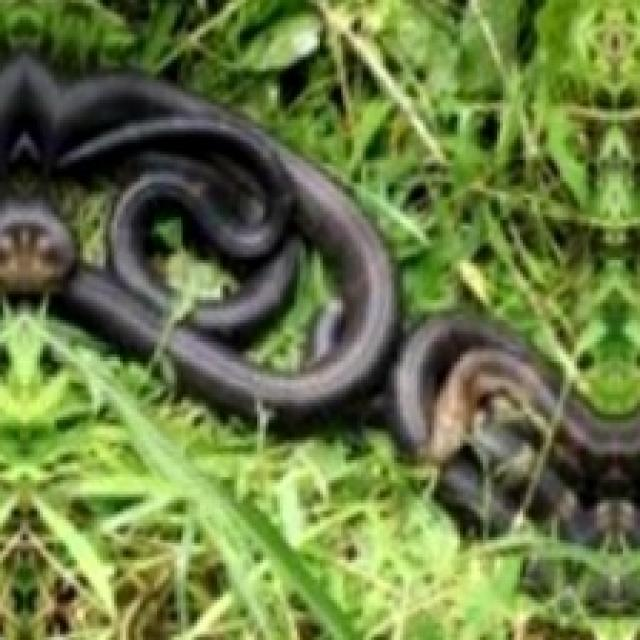king cobra: (0, 54, 637, 637)
